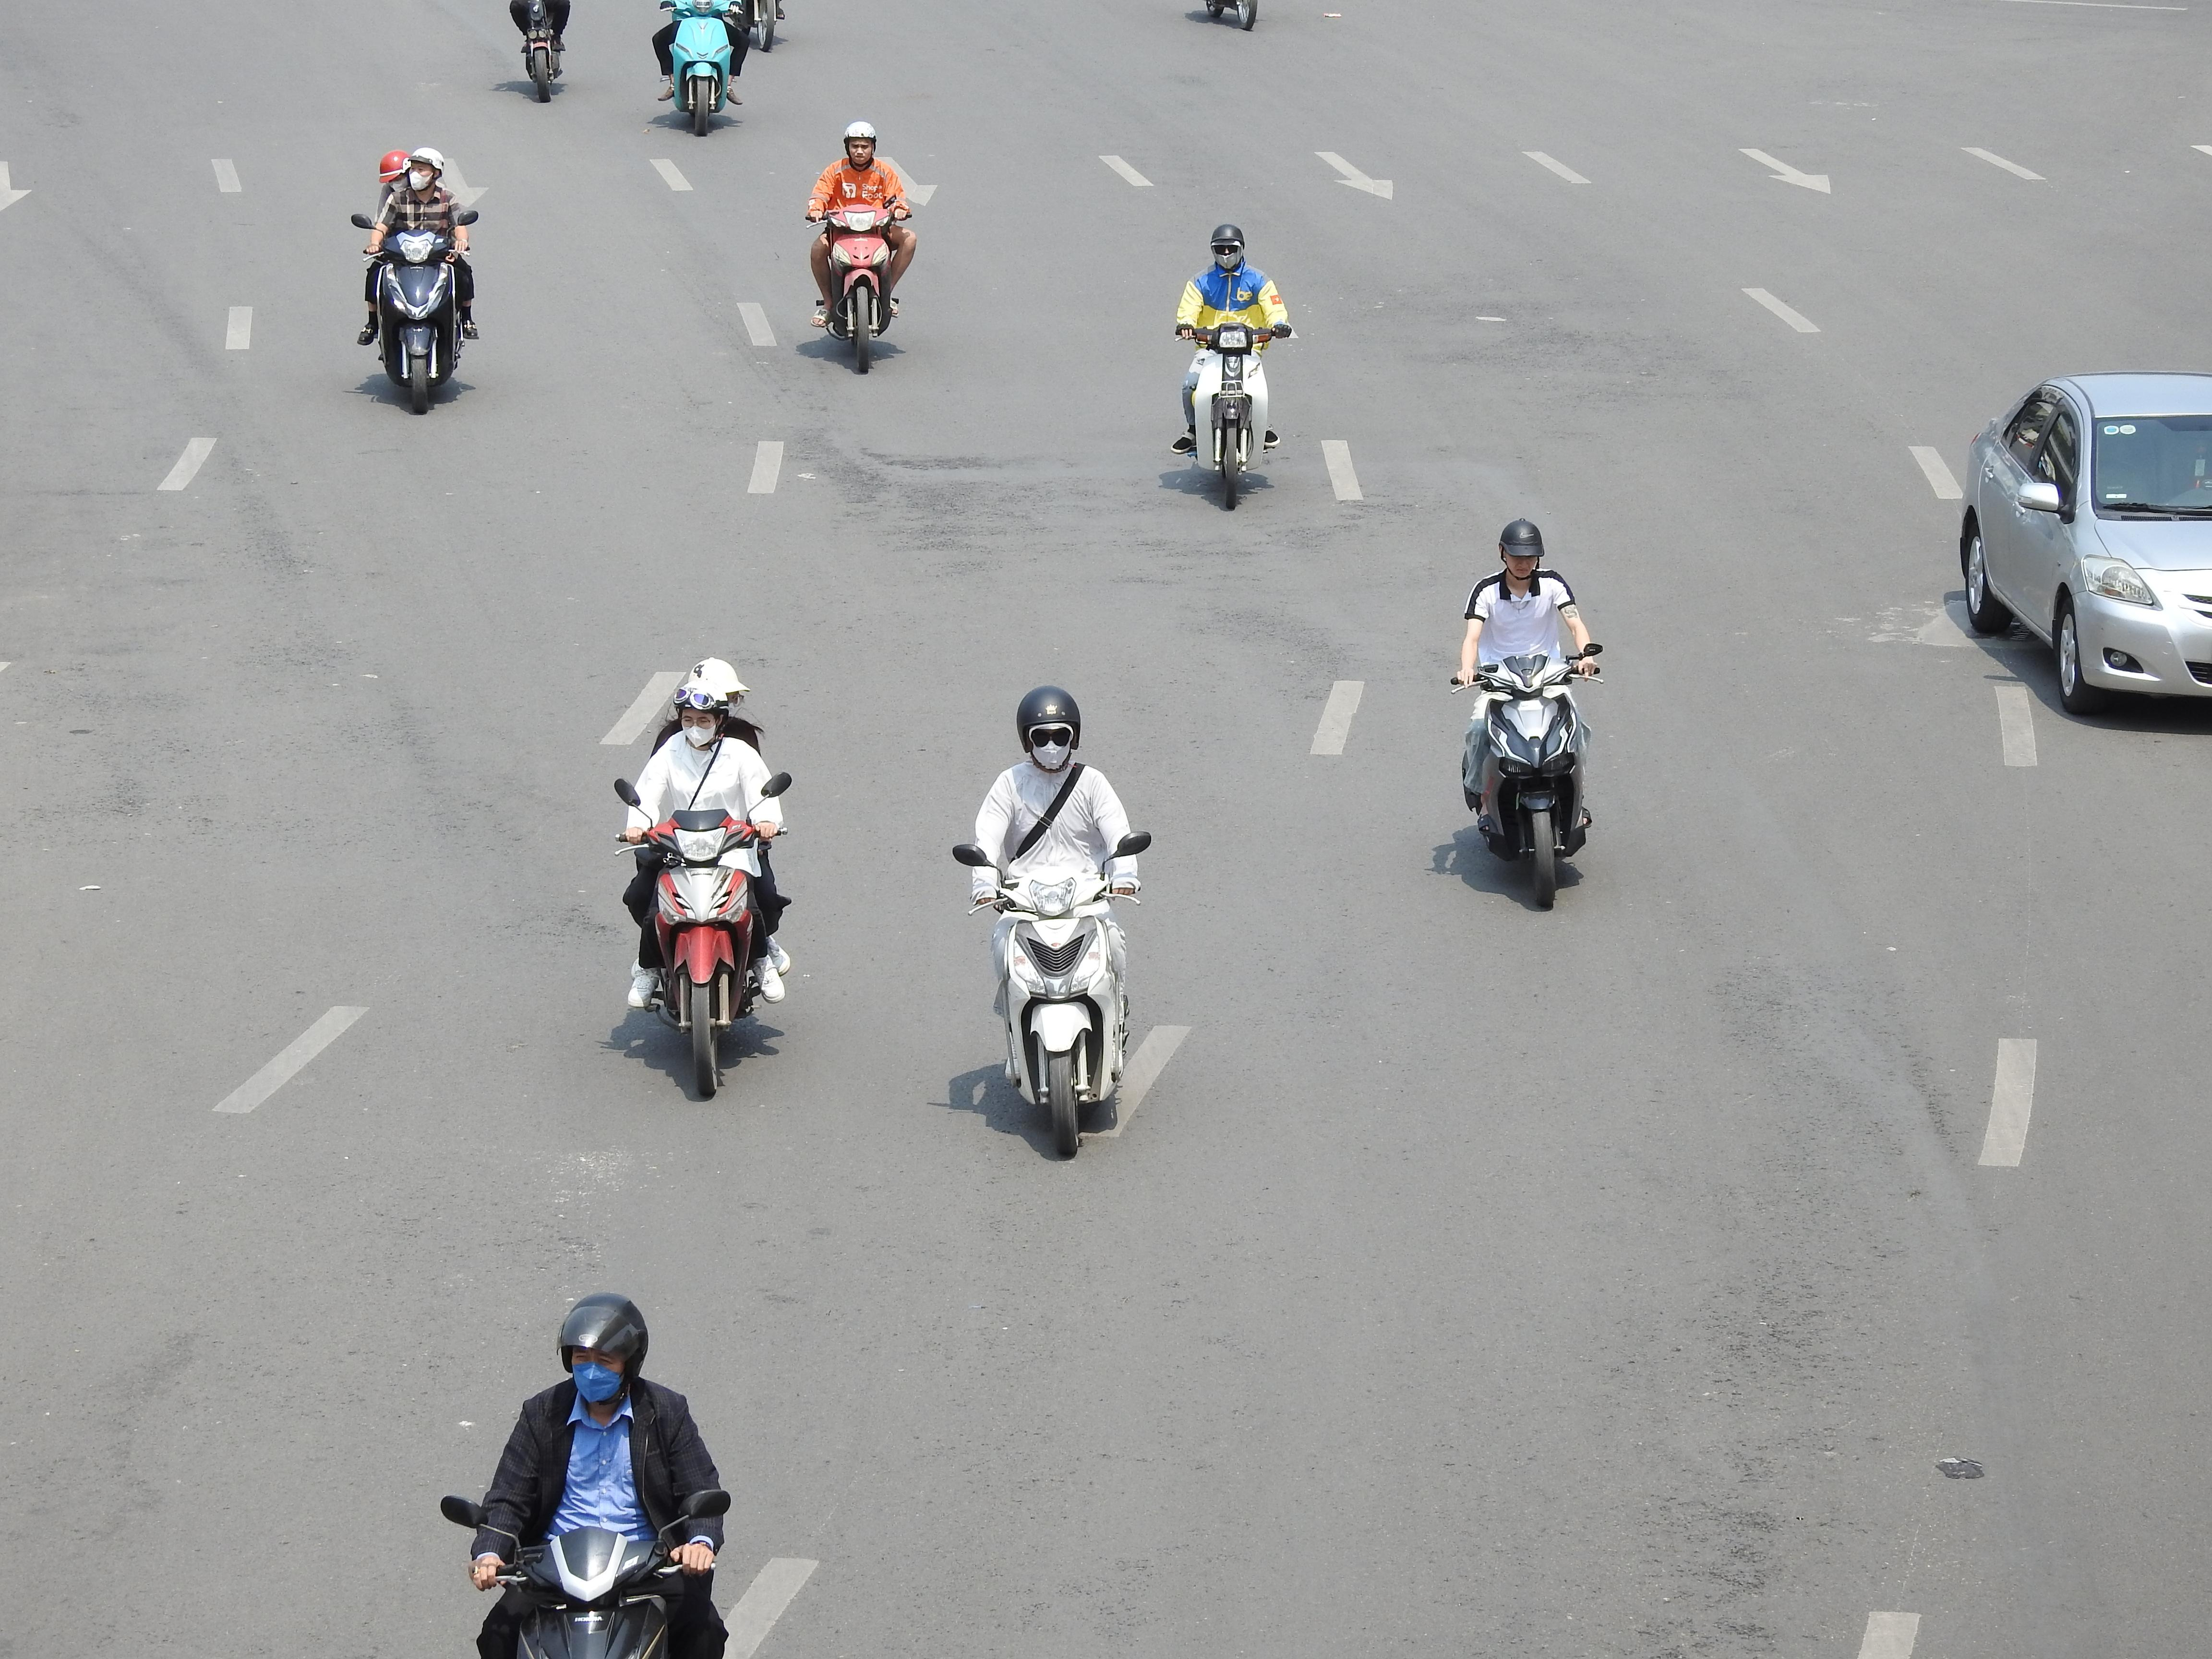car: (1956, 369, 2212, 721)
motorbike: (441, 1290, 735, 1659), (958, 683, 1150, 1161), (615, 659, 791, 1103), (1454, 518, 1602, 913), (1170, 223, 1291, 511), (357, 146, 479, 416), (806, 120, 913, 375), (655, 0, 742, 138), (509, 0, 573, 105)
